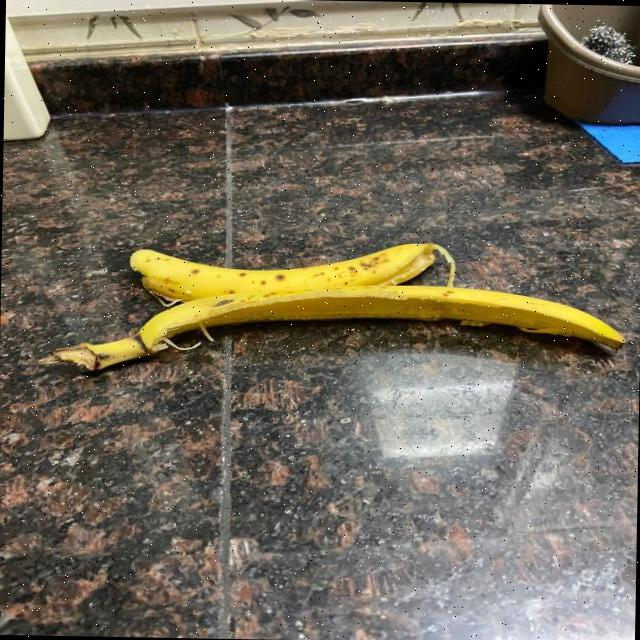banana-peel: (36, 275, 626, 381), (128, 234, 456, 306)
